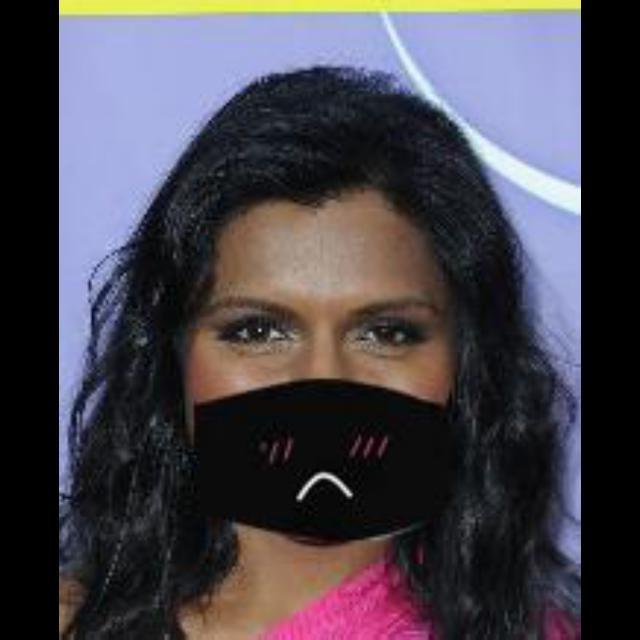suspicion: (155, 94, 495, 554)
